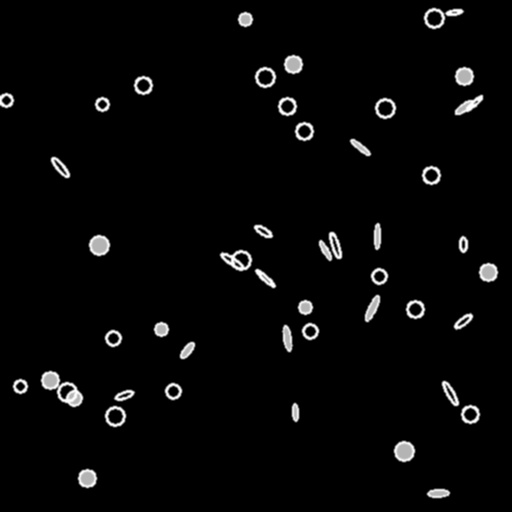pseudomonas: (219, 251, 245, 271), (363, 294, 381, 322), (441, 380, 459, 406), (50, 156, 70, 178), (254, 268, 276, 288), (349, 138, 371, 156), (328, 232, 342, 258), (454, 98, 474, 116), (453, 312, 473, 330), (465, 94, 483, 112), (179, 341, 195, 359), (318, 240, 332, 260), (253, 224, 273, 238), (282, 325, 292, 351), (114, 389, 134, 401), (427, 489, 449, 497), (374, 223, 380, 249), (445, 8, 463, 16), (292, 403, 298, 421), (460, 236, 466, 252)
synechocystis: (376, 99, 394, 117), (395, 442, 413, 460), (425, 9, 443, 27), (106, 407, 124, 425), (90, 236, 108, 254), (232, 251, 250, 269), (58, 383, 76, 401), (256, 68, 274, 86), (480, 264, 496, 280), (423, 167, 439, 183), (296, 123, 312, 139), (135, 77, 151, 93), (79, 470, 95, 486), (285, 56, 301, 72), (462, 406, 478, 422), (279, 98, 295, 114), (407, 301, 423, 317), (456, 68, 472, 84), (42, 372, 58, 388), (372, 269, 386, 283), (67, 391, 81, 405), (106, 331, 120, 345), (303, 324, 317, 338), (166, 384, 180, 398), (155, 323, 167, 335), (0, 94, 12, 106), (299, 301, 311, 313), (96, 98, 108, 110), (14, 380, 26, 392), (239, 13, 251, 25)
